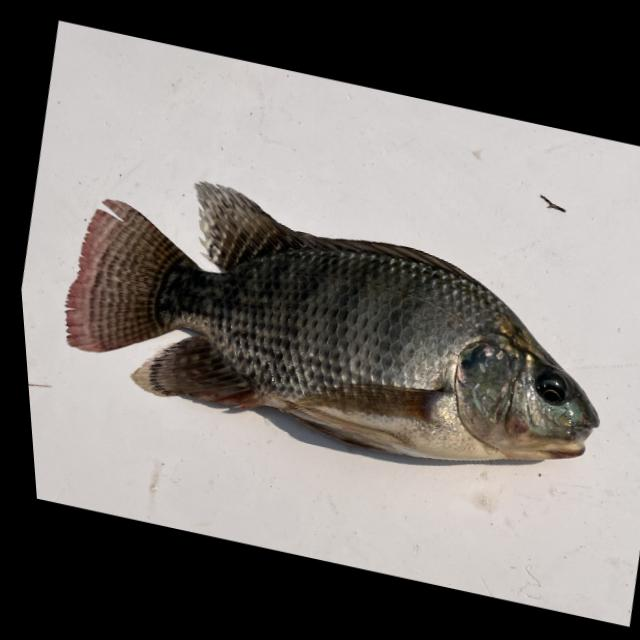Tilapia: (36, 155, 640, 500)
